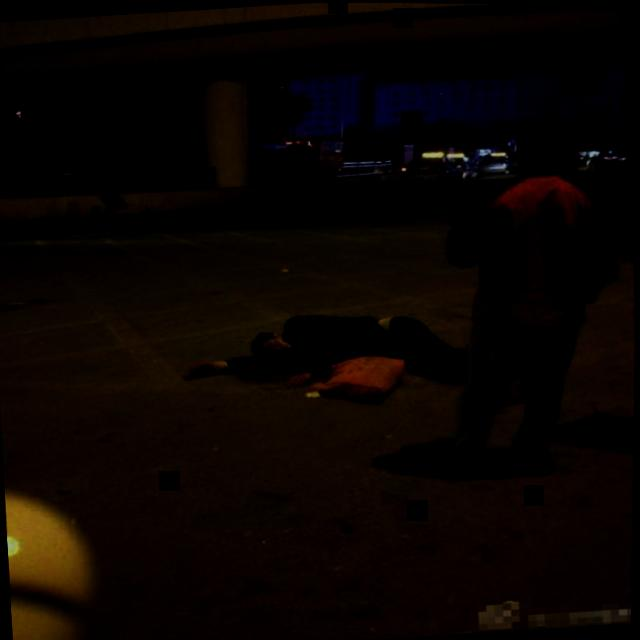Fall-Detected: (170, 282, 516, 396)
